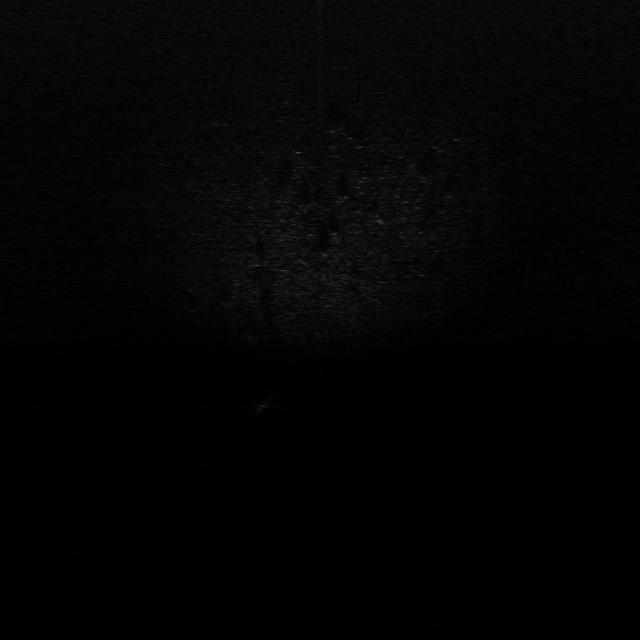human body: (243, 387, 282, 427)
